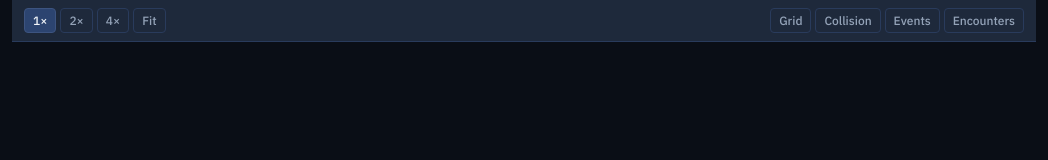
Test: GbcMapCanvas › every overlay toggle starts off, and Collision reveals a Wall AND a Water legend item
Click the button with aria-label "Show collision overlay" at x=848, y=20, box [816,8,881,33]
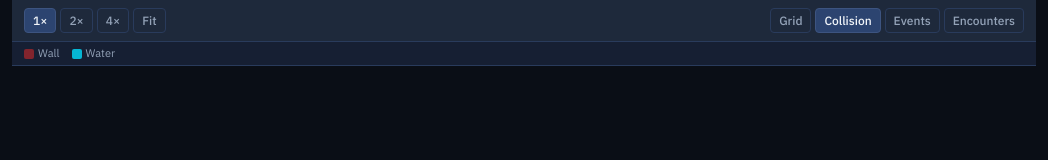
Now the text "Wall" is shown, box [24,46,60,61]
Now the text "Water" is shown, box [72,46,115,61]
